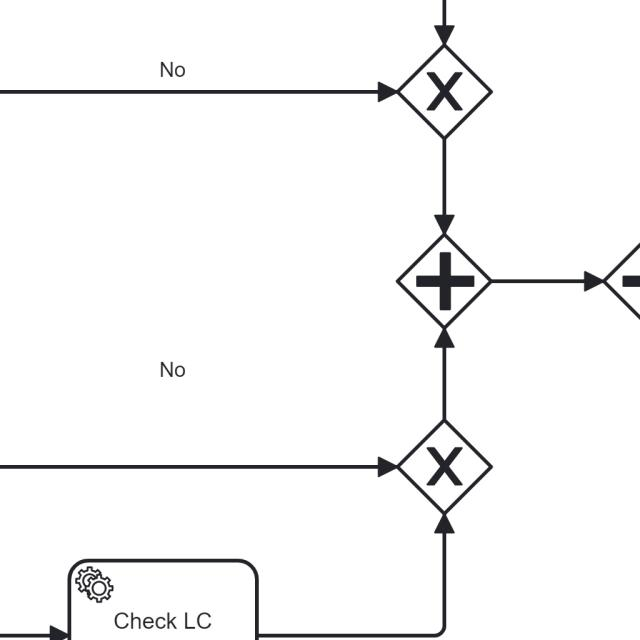arrow: (260, 514, 452, 637), (430, 138, 455, 230), (435, 327, 456, 417)
diamond: (398, 45, 492, 138), (399, 420, 492, 513), (397, 237, 489, 326)
text_region: (151, 353, 189, 382), (159, 53, 191, 85)
